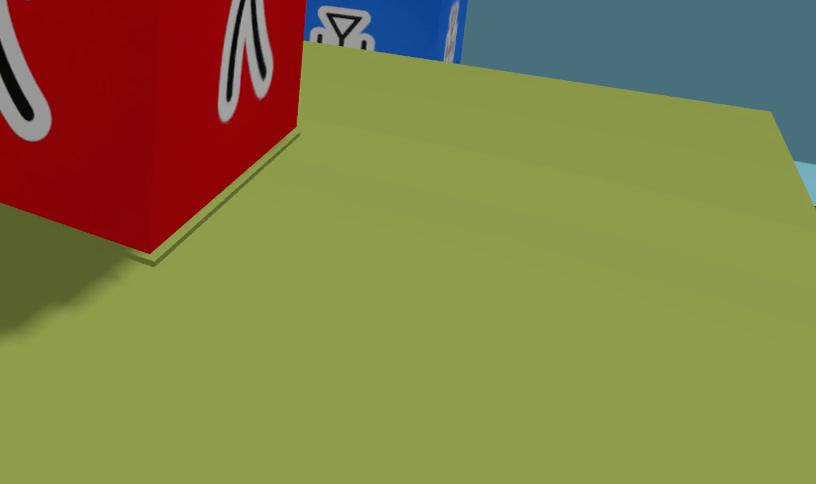KFS_FAKE: (0, 0, 308, 249), (0, 0, 50, 139), (218, 0, 273, 120)
KFS_REAL: (303, 0, 470, 62), (310, 6, 374, 48)
